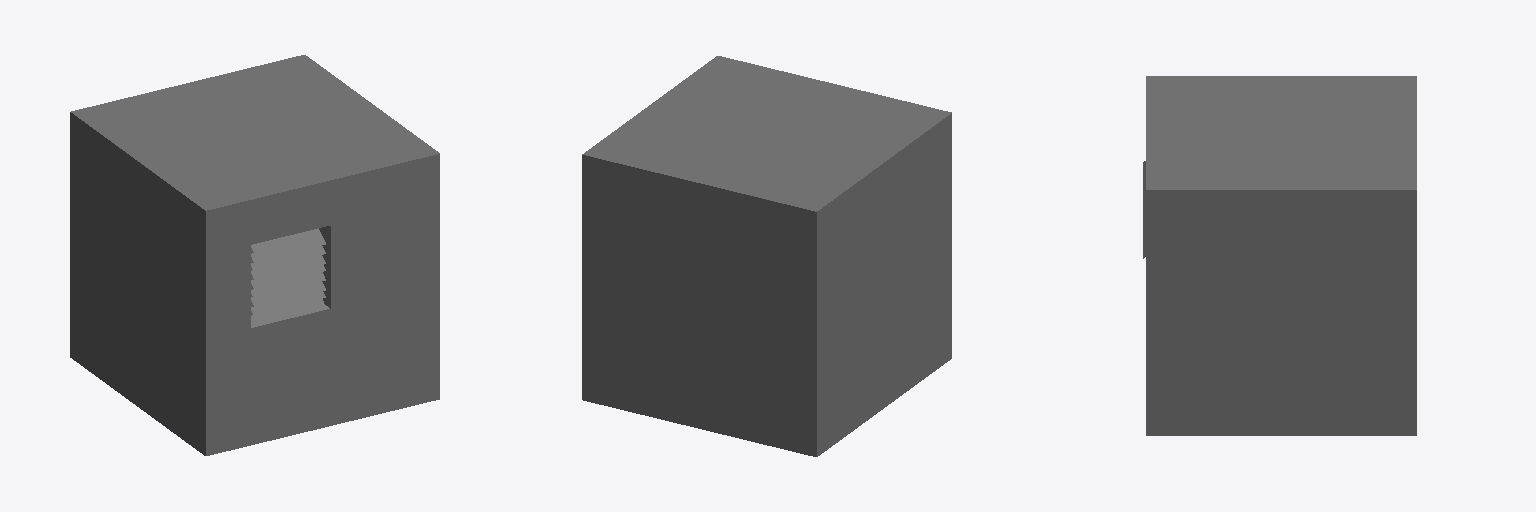
Rendered from fan_wall.obj.
3 views of the same model, side by side, from view 1: azimuth 30°, elevation 25°; view 2: azimuth 150°, elevation 25°; view 3: azimuth 270°, elevation 25° (orthographic).
Visible parts, largest first — view 1: pCube31; view 2: pCube31; view 3: pCube31.
Boxes of the visible parts, <box> form: pCube31: <box>70,55,439,455</box>; pCube31: <box>582,56,951,456</box>; pCube31: <box>1143,76,1416,435</box>.
Size of the model in its own units: 3.14 by 3.14 by 3.17.